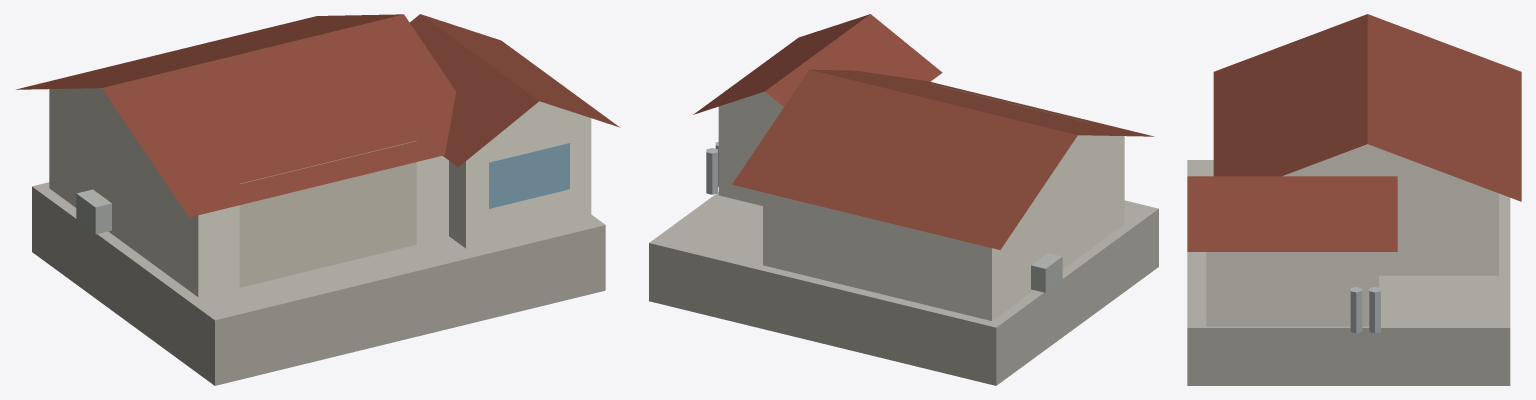
File: house3.glb
3 views of the same model, side by side, from view 1: azimuth 30°, elevation 25°; view 2: azimuth 150°, elevation 25°; view 3: azimuth 270°, elevation 25° (orthographic). The views are drawn at different scales.
Visible parts, largest first — view 1: house3; view 2: house3; view 3: house3.
Boxes of the visible parts, x1,y1,x2,y2 form: house3: (16, 14, 619, 385); house3: (649, 14, 1158, 385); house3: (1187, 14, 1521, 385).
Bounding box in the file's own units: 11.3 × 5.85 × 8.9.
